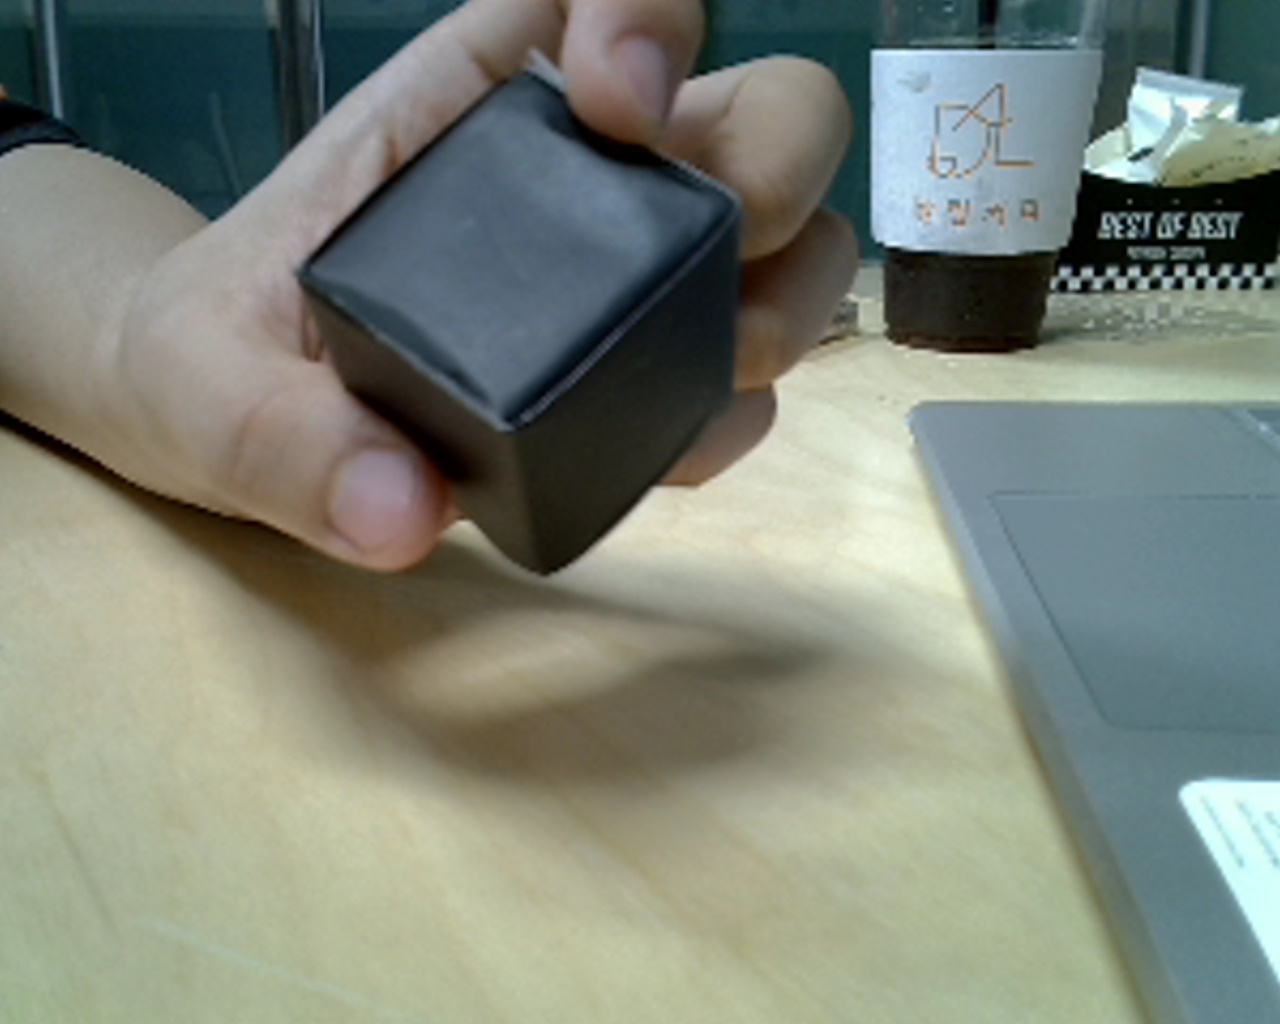blackbox: (289, 32, 816, 638)
